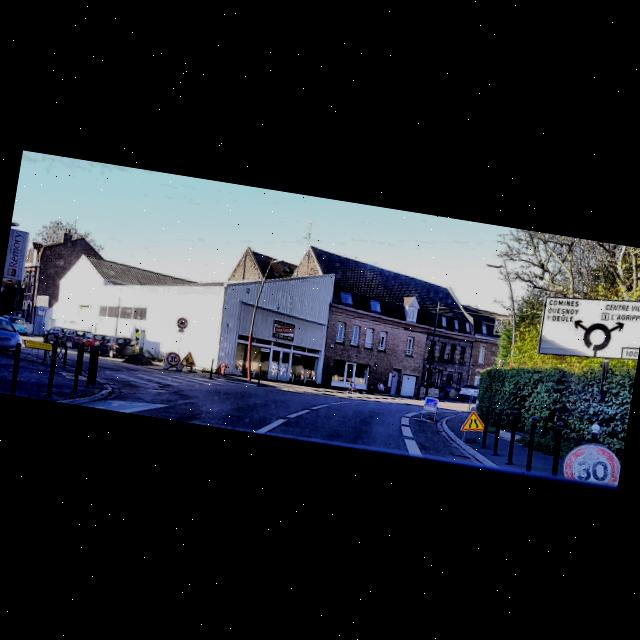speed_30: (563, 446, 618, 485), (166, 352, 181, 366)
